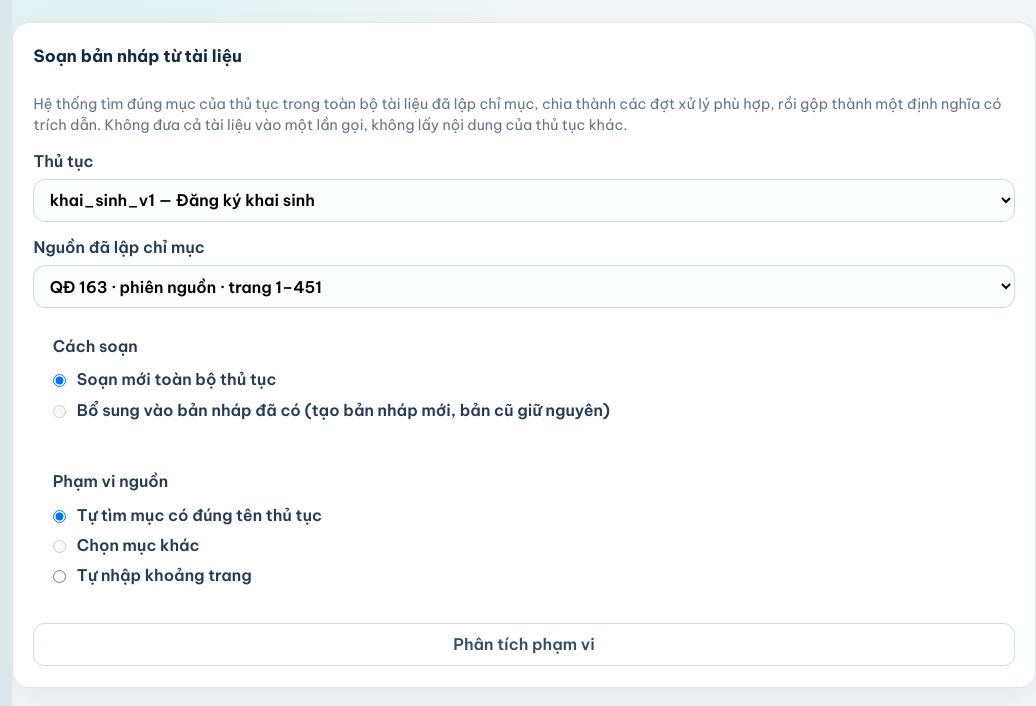
Test: DraftsPage long-document drafting › blocks a range outside the procedure section and lists outside mentions
Click the button "Phân tích phạm vi": (524, 644) x1=34 y1=623 x2=1015 y2=666
(page scrolled)
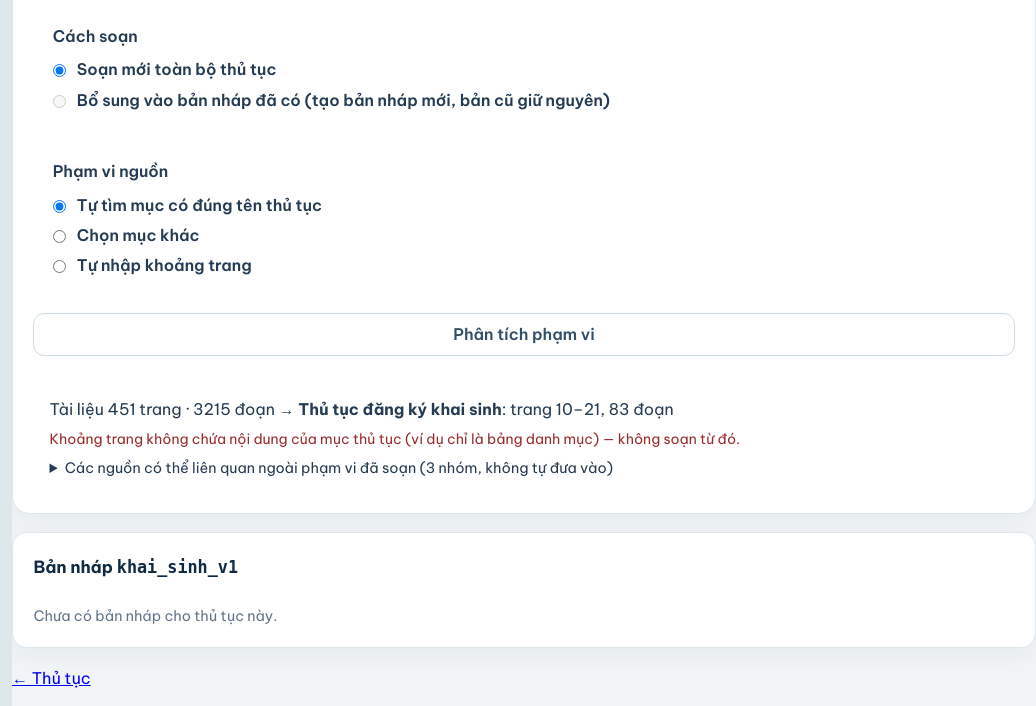
Now the text "không chứa nội dung của mục thủ tục" is shown, box x1=50 y1=430 x2=740 y2=448
Now the element with class "dj-outside" shows "Các nguồn có thể liên quan ngoài phạm vi đã soạn (3 nhóm", box x1=65 y1=459 x2=613 y2=477
